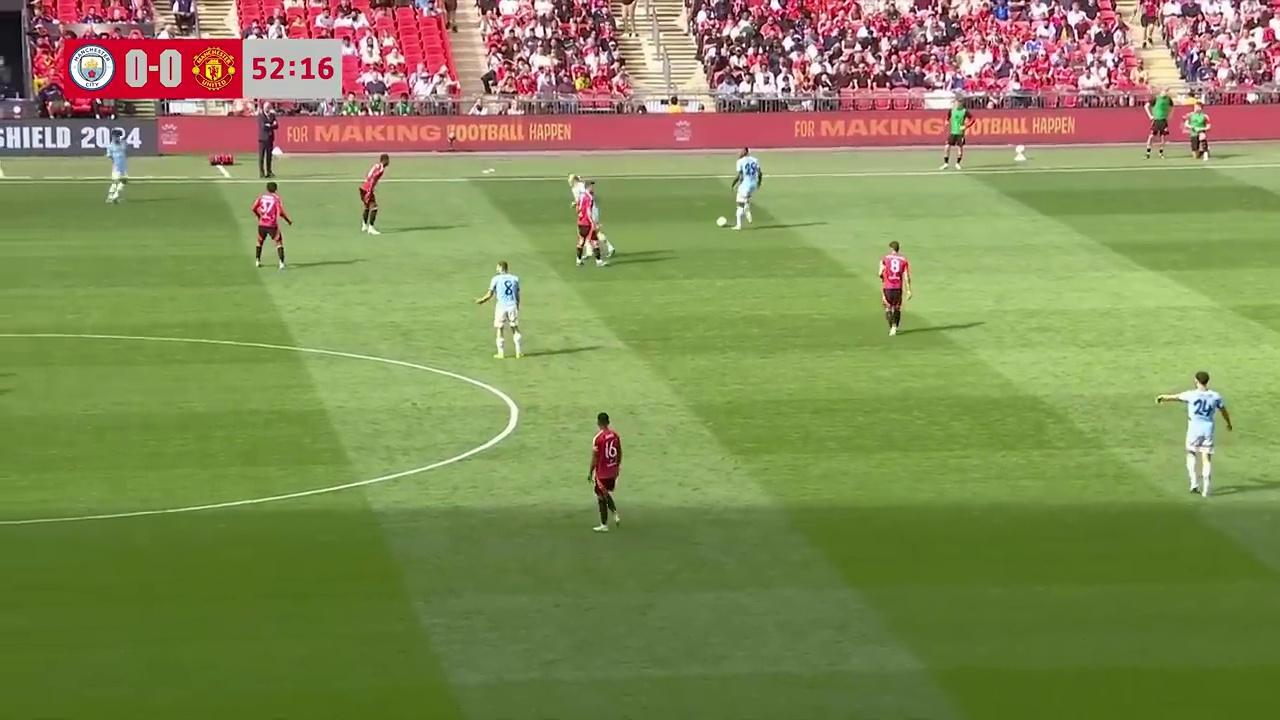ball: (715, 213, 728, 229)
player: (1169, 371, 1232, 497), (476, 261, 523, 359), (588, 411, 622, 531), (251, 182, 293, 270), (878, 241, 911, 335), (572, 187, 606, 267), (569, 175, 599, 262), (731, 150, 762, 230), (358, 156, 387, 234), (105, 143, 129, 204)
